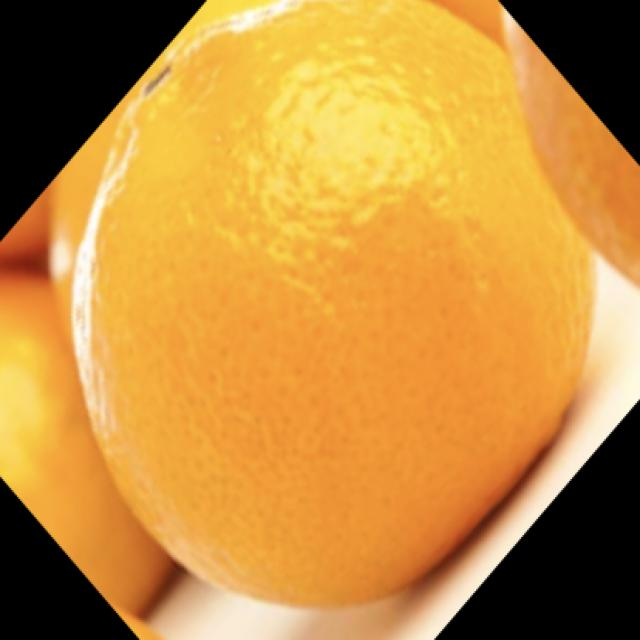fresh: (69, 0, 640, 607)
